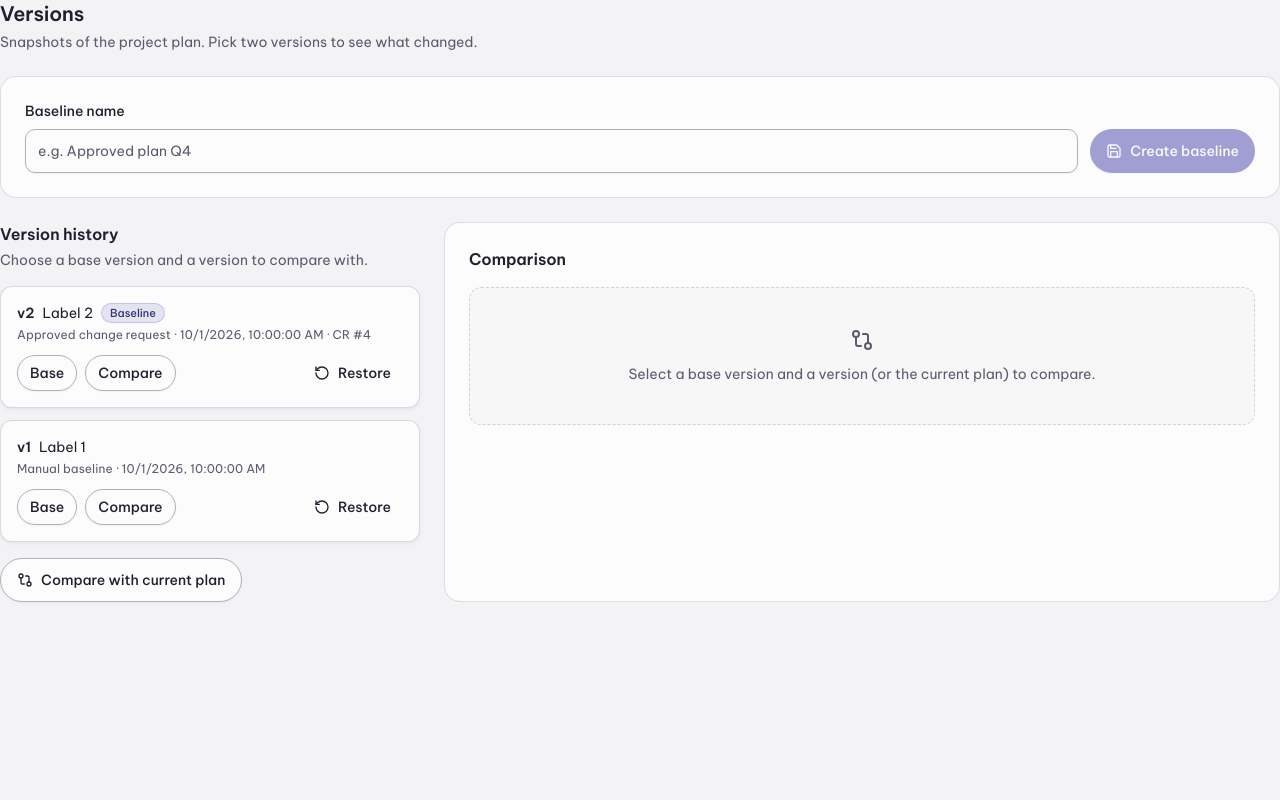
it: trang phiên bản › PM mở dialog khôi phục với diff phiên bản so với hiện trạng
What coordinates should you click on to do the following:
click the button with aria-label "Restore v1"
I would click on:
 (352, 507)
Its box is x1=302 y1=489 x2=403 y2=525.
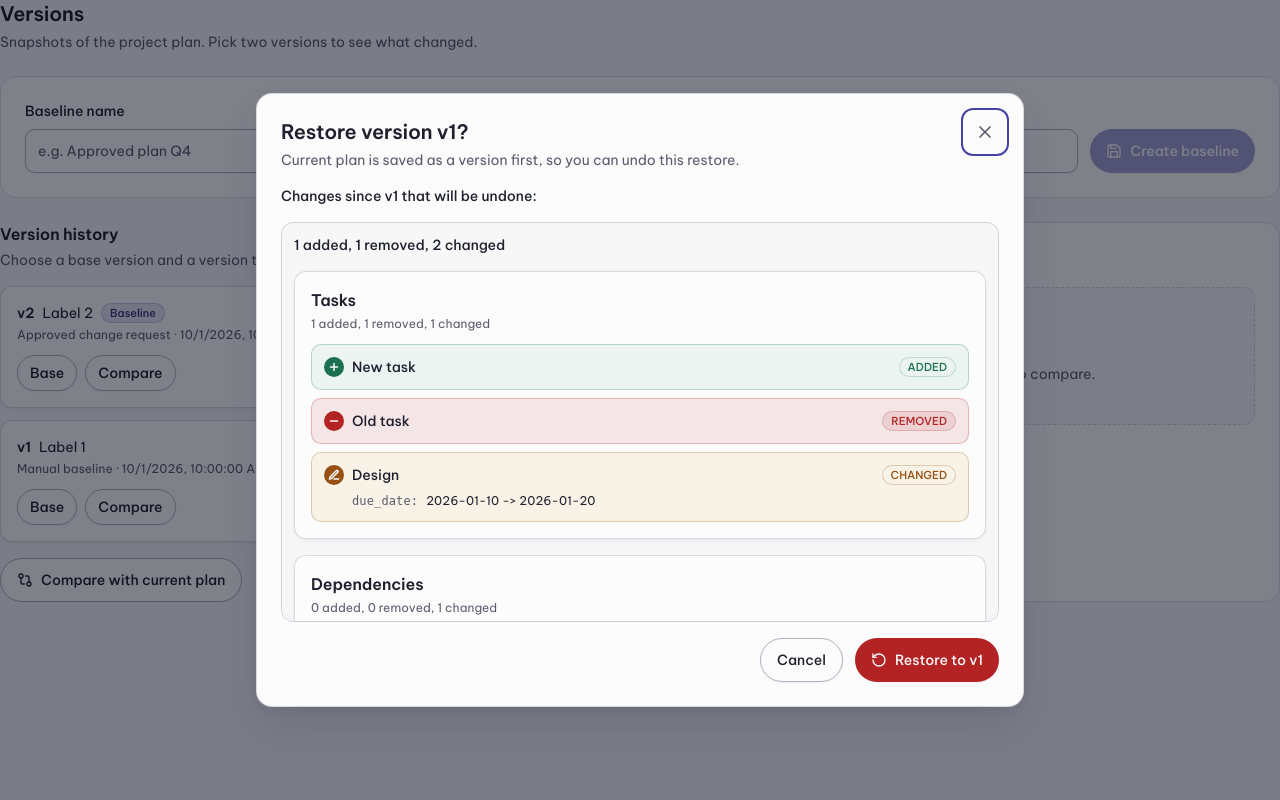
Now the dialog "Restore version v1?" is shown, box x1=256 y1=93 x2=1024 y2=707
